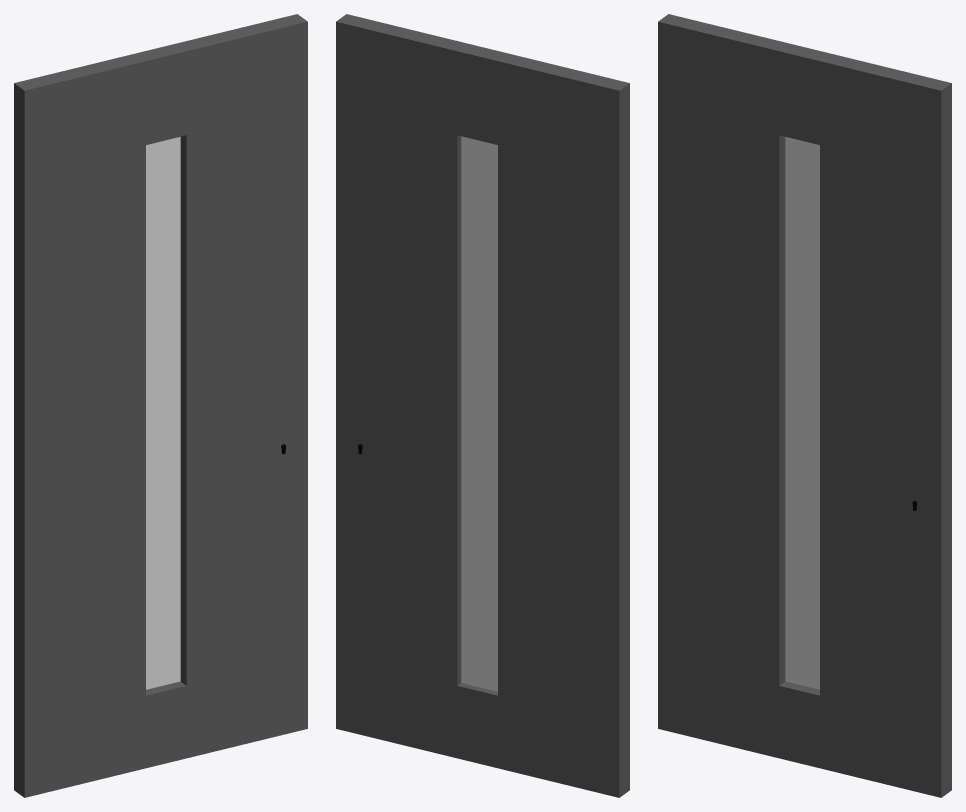
File: Door05_WGlass.fbx
3 renders of one model, left to right at view 1: azimuth 30°, elevation 25°; view 2: azimuth 150°, elevation 25°; view 3: azimuth 330°, elevation 25°, orthographic.
Parts seen in each view (by area): view 1: Door05_WGlass; view 2: Door05_WGlass; view 3: Door05_WGlass.
Part boxes in pixels (bbox=[...]): Door05_WGlass: bbox=[14, 14, 307, 797]; Door05_WGlass: bbox=[336, 14, 629, 797]; Door05_WGlass: bbox=[658, 14, 951, 797].
Size of the model in its own units: 78 by 186 by 6.71.
